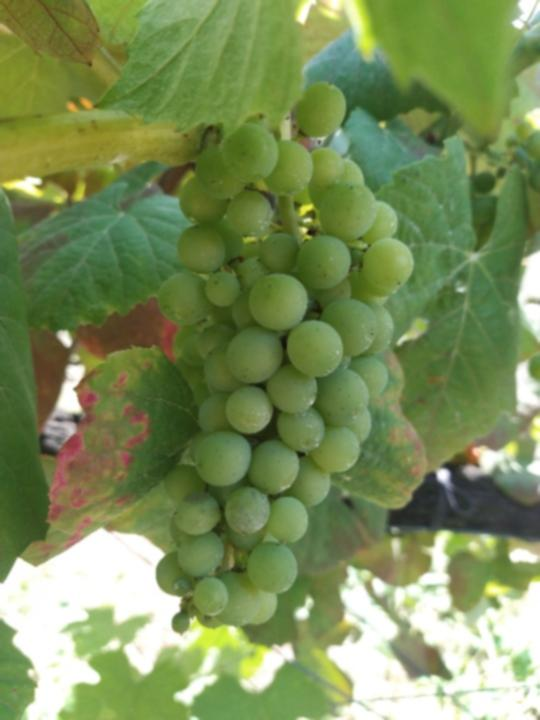grape: (154, 75, 416, 638)
